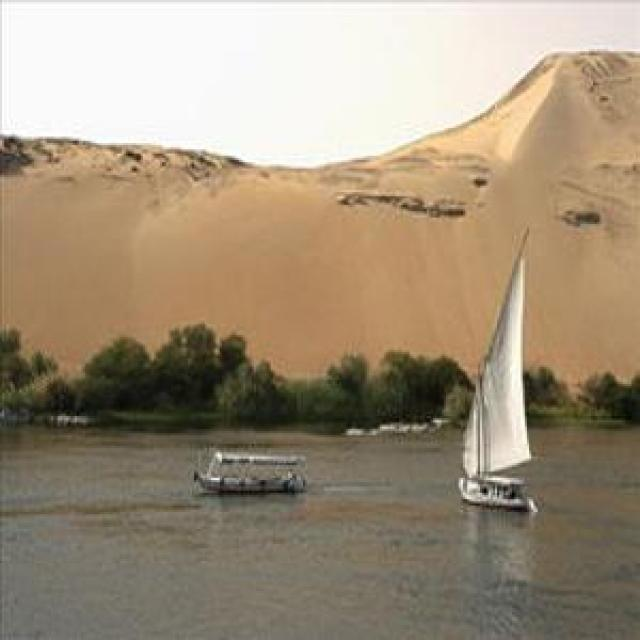houseboat: (183, 444, 307, 492)
sailboat: (440, 220, 572, 525)
